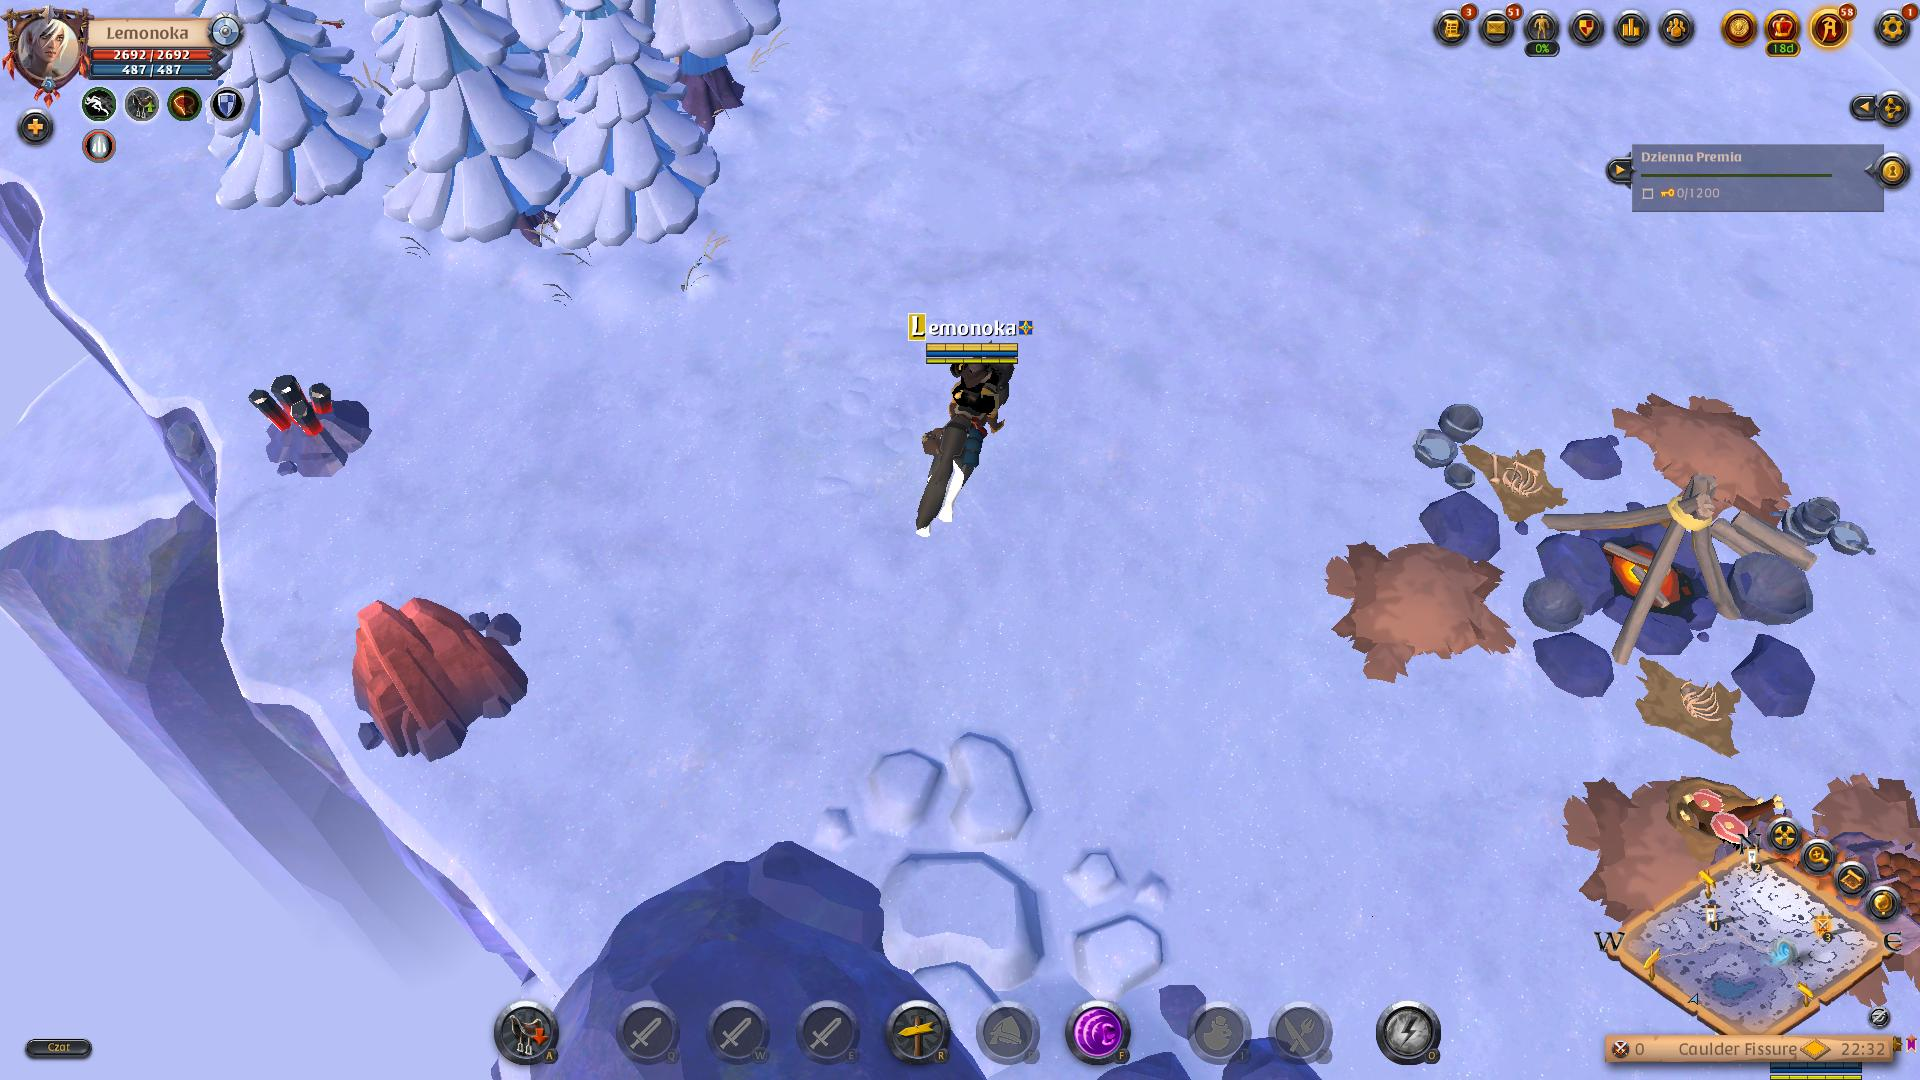ore tier 5: (248, 371, 373, 476)
rock tier 5: (345, 599, 530, 757)
